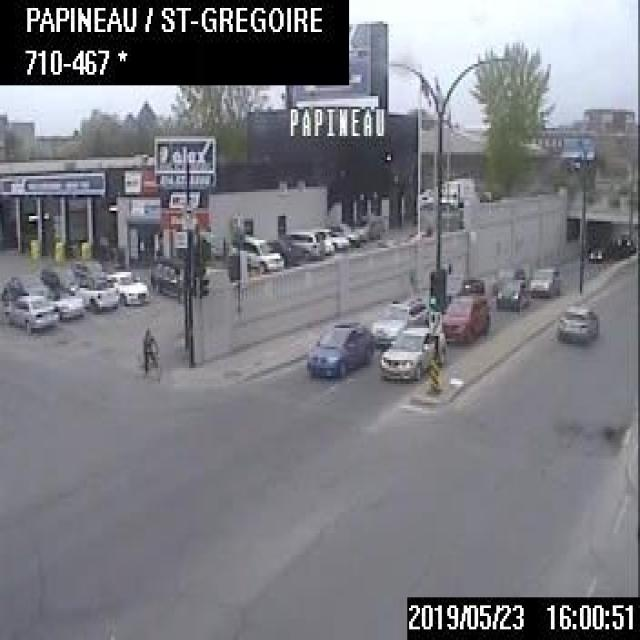pedestrian: (141, 325, 158, 370)
vehicle: (302, 317, 374, 375), (378, 323, 444, 379), (369, 294, 427, 345), (438, 288, 490, 343), (6, 290, 58, 332), (234, 233, 284, 271), (110, 266, 155, 308), (149, 255, 184, 300), (78, 272, 116, 312), (556, 300, 596, 338), (526, 262, 562, 302), (284, 227, 326, 261), (46, 283, 82, 322), (494, 273, 528, 313), (0, 273, 52, 298), (40, 263, 79, 293), (71, 259, 110, 286), (267, 237, 302, 266), (315, 226, 347, 248), (586, 237, 610, 260), (615, 228, 634, 251)
